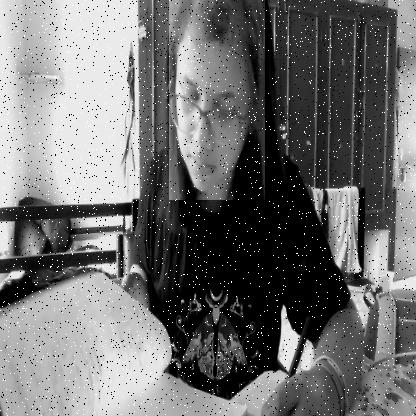Distracted: (168, 0, 264, 200)
